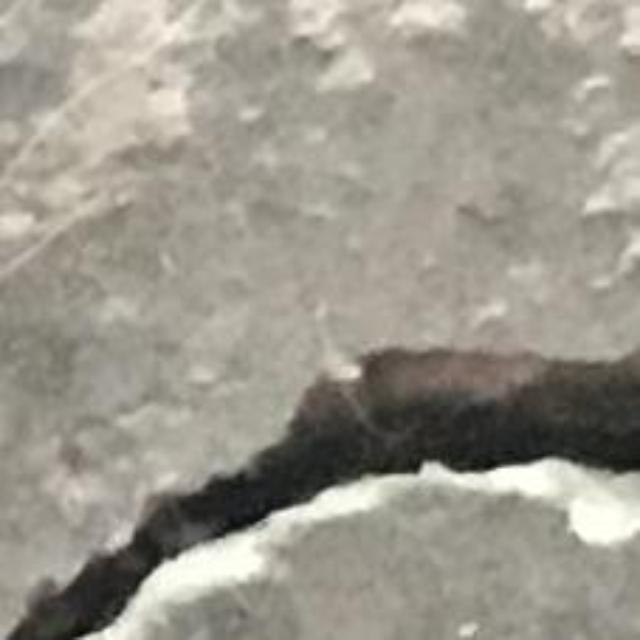crack: (3, 350, 639, 639)
